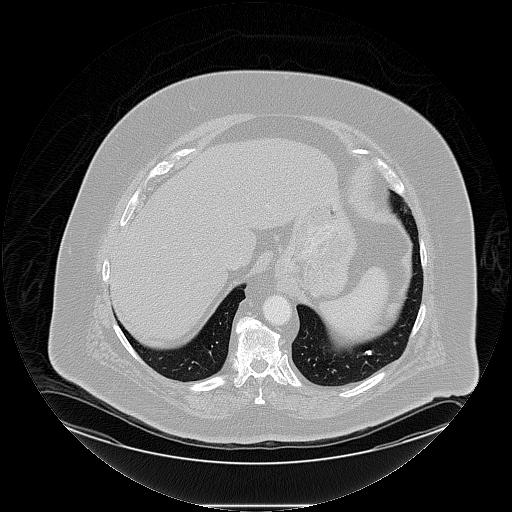nodule: (364, 347, 374, 357)
